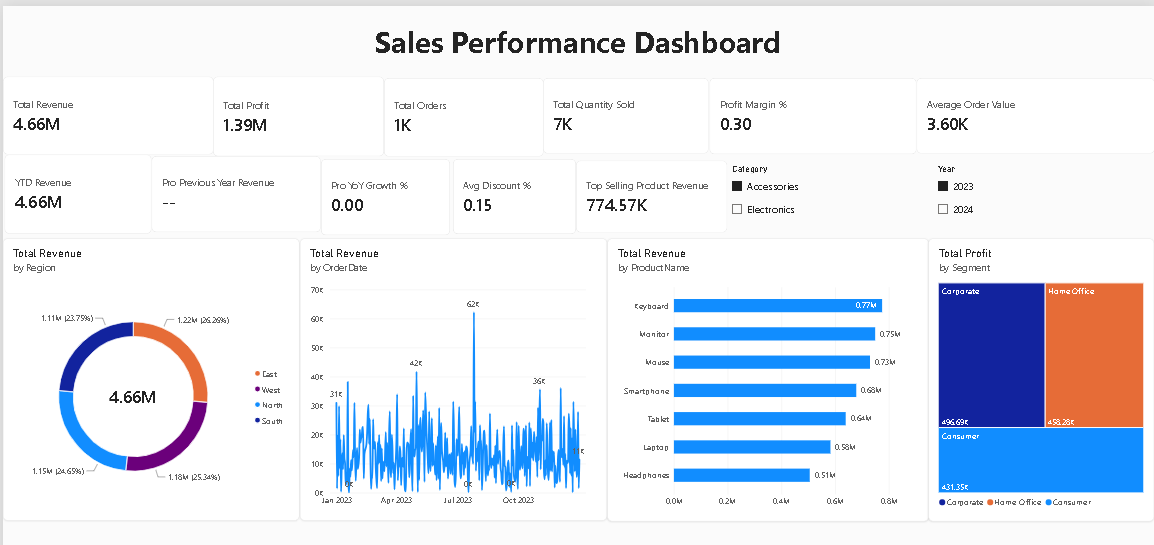

Layout of this report page (visuals, bound fields, positions):
{"tool":"powerbi","page":{"name":"Page 1","canvas":[1920,1080],"ordinal":0},"visuals":[{"type":"cardVisual","fields":{"Data":["sales_data.Total Revenue"]},"box":[0,117.5,351.2,130],"z":0},{"type":"donutChart","fields":{"Category":["sales_data.Region"],"Y":["sales_data.Total Revenue"]},"box":[0,388,494,470],"z":1000},{"type":"cardVisual","fields":{"Data":["sales_data.Total Profit"]},"box":[350,117.5,285,133.8],"z":2000},{"type":"cardVisual","fields":{"Data":["sales_data.Total Orders"]},"box":[635,120,266.2,131.2],"z":3000},{"type":"cardVisual","fields":{"Data":["sales_data.Total Quantity Sold"]},"box":[900,121.1,276.7,126.7],"z":4000},{"type":"cardVisual","fields":{"Data":["sales_data.Profit Margin %"]},"box":[1177.8,120,345.6,127.8],"z":5000},{"type":"cardVisual","fields":{"Data":["sales_data.Average Order Value"]},"box":[1523.3,121.1,397.8,126.7],"z":6000},{"type":"cardVisual","fields":{"Data":["sales_data.YTD Revenue"]},"box":[2.5,247.5,245,132.5],"z":7000},{"type":"cardVisual","fields":{"Data":["sales_data.Pro Previous Year Revenue"]},"box":[247.5,250,282.5,127.5],"z":8000},{"type":"cardVisual","fields":{"Data":["sales_data.Pro YoY Growth %"]},"box":[530,255,215,127.5],"z":9000},{"type":"cardVisual","fields":{"Data":["sales_data.Top Selling Product Revenue"]},"box":[955,257.5,252.5,120],"z":10000},{"type":"cardVisual","fields":{"Data":["sales_data.Avg Discount %"]},"box":[750,255,205,125],"z":11000},{"type":"lineChart","fields":{"Category":["sales_data.OrderDate.Variation.Date Hierarchy.Year"],"Y":["sales_data.Total Revenue"]},"box":[494,388,512,470],"z":12000},{"type":"clusteredBarChart","fields":{"Category":["sales_data.ProductName"],"Y":["sales_data.Total Revenue"]},"box":[1007.5,387.5,535,471.2],"z":13000},{"type":"treemap","fields":{"Group":["sales_data.Segment"],"Values":["sales_data.Total Profit"]},"box":[1542.5,387.4,375.9,471.3],"z":14000},{"type":"textbox","box":[0,26.5,1917.6,88.2],"z":15000},{"type":"slicer","fields":{"Values":["sales_data.Category"]},"box":[1207.8,262.2,334.4,115.6],"z":16000},{"type":"slicer","fields":{"Values":["Calendar.Year"]},"box":[1548.9,262.2,362.2,115.6],"z":17000}]}

Visuals, with their boxes in screenshot pixels (x1, y1, x2, y2):
cardVisual - sales_data.Total Revenue: [114, 39, 302, 108]
donutChart - sales_data.Region x sales_data.Total Revenue: [114, 183, 378, 434]
cardVisual - sales_data.Total Profit: [301, 39, 453, 110]
cardVisual - sales_data.Total Orders: [453, 40, 595, 110]
cardVisual - sales_data.Total Quantity Sold: [595, 41, 742, 108]
cardVisual - sales_data.Profit Margin %: [743, 40, 927, 108]
cardVisual - sales_data.Average Order Value: [927, 41, 1140, 108]
cardVisual - sales_data.YTD Revenue: [116, 108, 246, 179]
cardVisual - sales_data.Pro Previous Year Revenue: [246, 109, 397, 177]
cardVisual - sales_data.Pro YoY Growth %: [397, 112, 512, 180]
cardVisual - sales_data.Top Selling Product Revenue: [624, 113, 759, 177]
cardVisual - sales_data.Avg Discount %: [515, 112, 624, 179]
lineChart - sales_data.OrderDate.Variation.Date Hierarchy.Year x sales_data.Total Revenue: [378, 183, 651, 434]
clusteredBarChart - sales_data.ProductName x sales_data.Total Revenue: [652, 183, 938, 434]
treemap - sales_data.Segment x sales_data.Total Profit: [938, 183, 1138, 434]
textbox: [114, 0, 1138, 37]
slicer - sales_data.Category: [759, 116, 938, 178]
slicer - Calendar.Year: [941, 116, 1134, 178]
